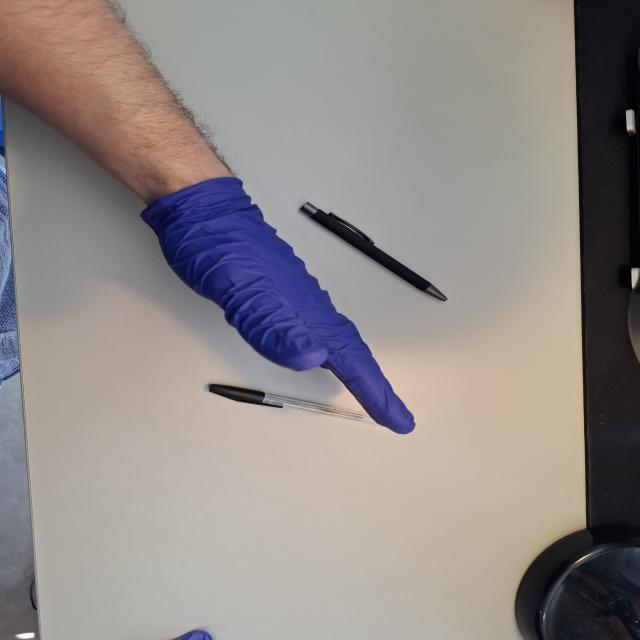glove_on: (138, 180, 420, 437)
